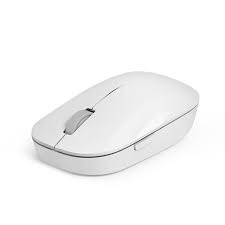mouse: (17, 69, 202, 181)
